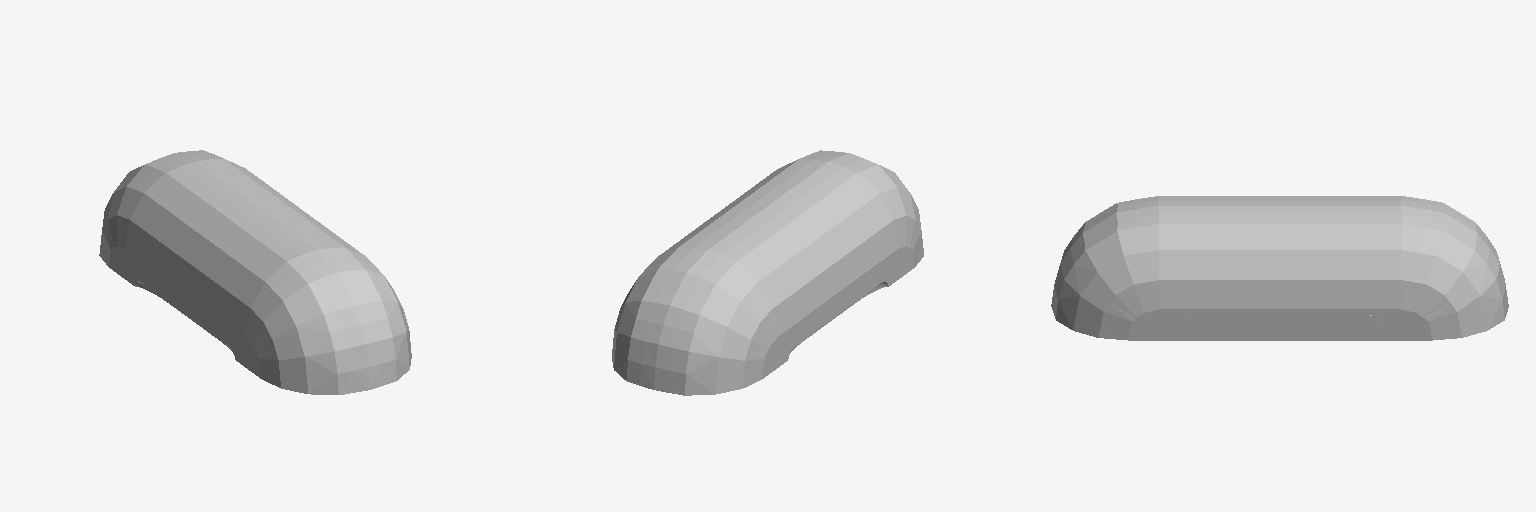
File: air top.obj
3 renders of one model, left to right at view 1: azimuth 30°, elevation 25°; view 2: azimuth 150°, elevation 25°; view 3: azimuth 270°, elevation 25°, orthographic.
Parts seen in each view (by area): view 1: cap; view 2: cap; view 3: cap.
Boxes of the visible parts, x1=… form: cap: x1=99, y1=150, x2=411, y2=394; cap: x1=612, y1=150, x2=923, y2=395; cap: x1=1051, y1=196, x2=1508, y2=340.
Bounding box in the file's own units: 1.89 × 1.29 × 5.31.